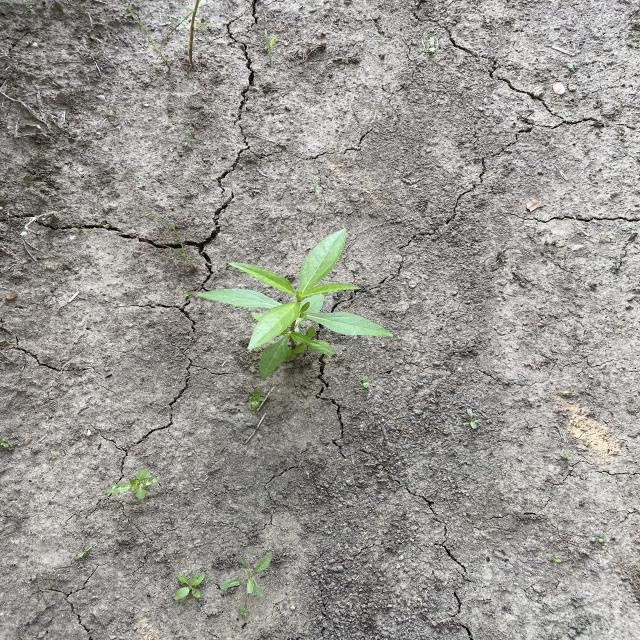Eclipta: (196, 228, 395, 382)
Waterhemp: (220, 552, 274, 600)
